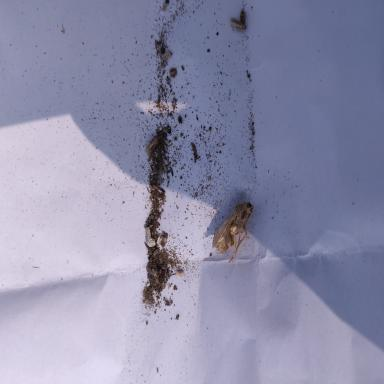abw: (212, 201, 254, 263)
pbw: (145, 134, 159, 156), (229, 18, 247, 28), (239, 10, 246, 25)
